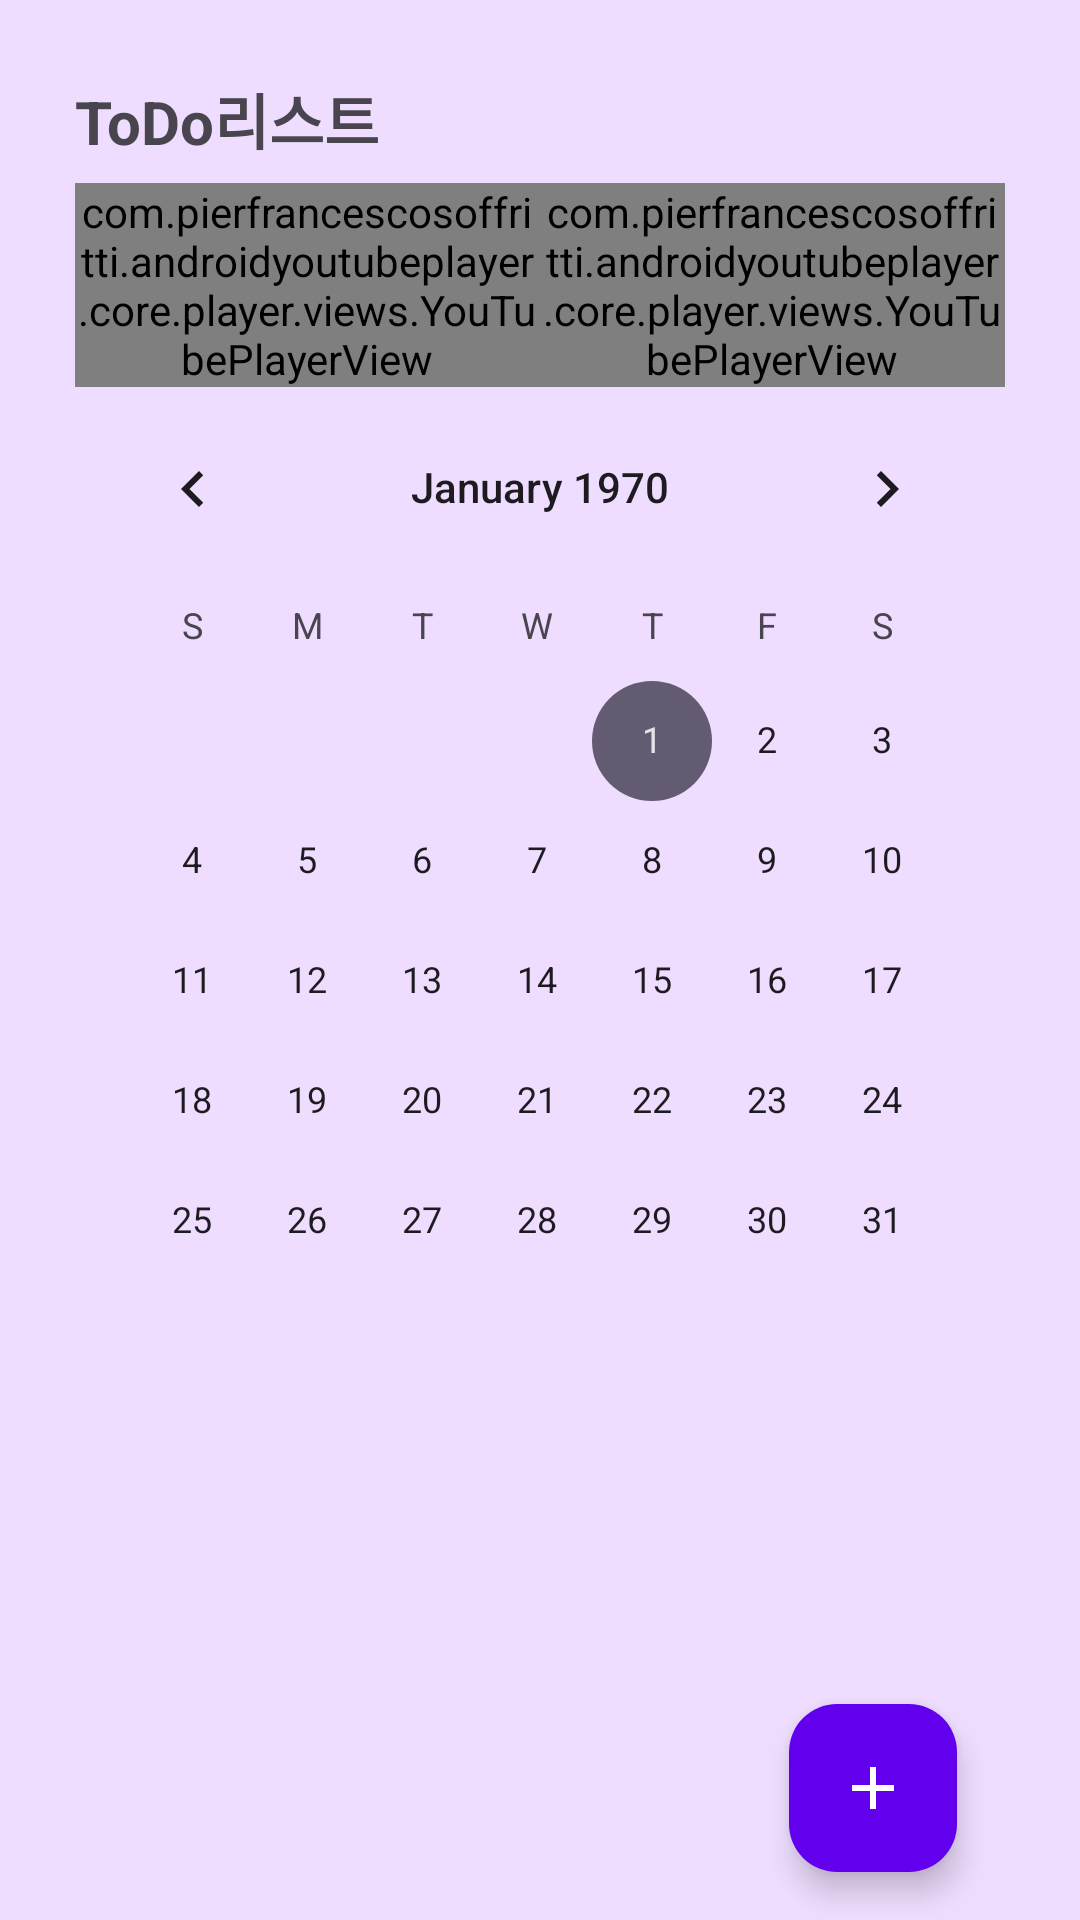

Screen size 1080px×1920px. Icon name, then its center in pixels as point (x, y):
add: point (873, 1788)
